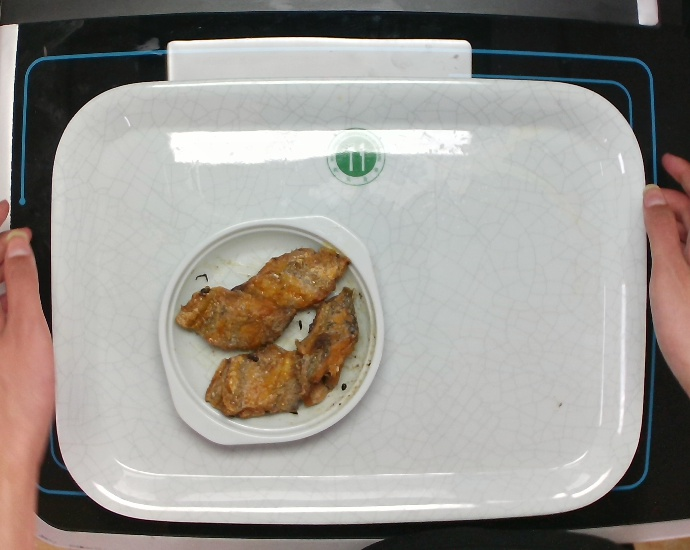JYsf-Shuang_Er_Pan: (156, 212, 386, 451)
